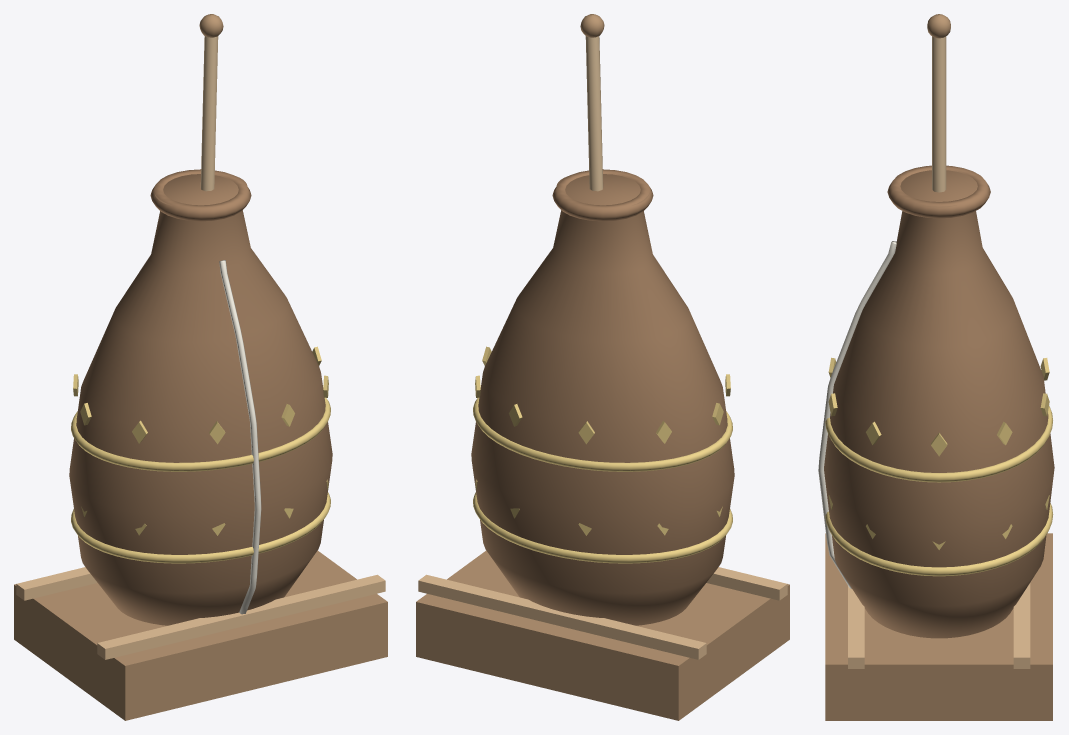
File: saba.glb
3 renders of one model, left to right at view 1: azimuth 30°, elevation 25°; view 2: azimuth 150°, elevation 25°; view 3: azimuth 270°, elevation 25°, orthographic. The views are drawn at different scales.
Parts seen in each view (by area): view 1: saba, stand, stand-bar (×2), band (×2), seam, neck-rim, pispek; view 2: saba, stand, stand-bar (×2), band (×2), neck-rim, pispek; view 3: saba, stand, band (×2), stand-bar (×2), neck-rim, pispek, seam, pispek-top.
Part boxes in pixels (x1,y1,x2,y2): saba: (69,174,332,625); stand: (14,550,387,720); stand-bar (×2): (16,567,385,659); band (×2): (71,397,330,563); seam: (219,260,261,614); neck-rim: (150,169,251,221); pispek: (200,36,218,191); saba: (471,174,734,625); stand: (416,550,789,720); stand-bar (×2): (418,567,787,659); band (×2): (473,397,732,563); neck-rim: (552,169,653,221); pispek: (585,36,603,191); saba: (824,170,1054,638); stand: (825,533,1052,720); band (×2): (825,405,1053,576); stand-bar (×2): (848,583,1030,668); neck-rim: (887,165,990,218); pispek: (932,36,946,192); seam: (818,241,896,588); pispek-top: (927,14,950,38).
Bounding box in the file's own units: 1.6 × 3.44 × 1.14.
